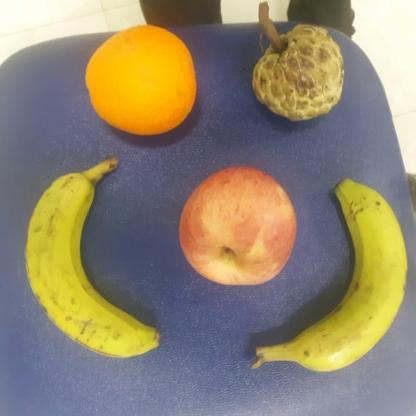annona: (248, 23, 349, 127)
apple: (176, 162, 302, 287)
banana: (16, 170, 167, 361), (293, 176, 408, 376)
orange: (83, 20, 200, 137)
